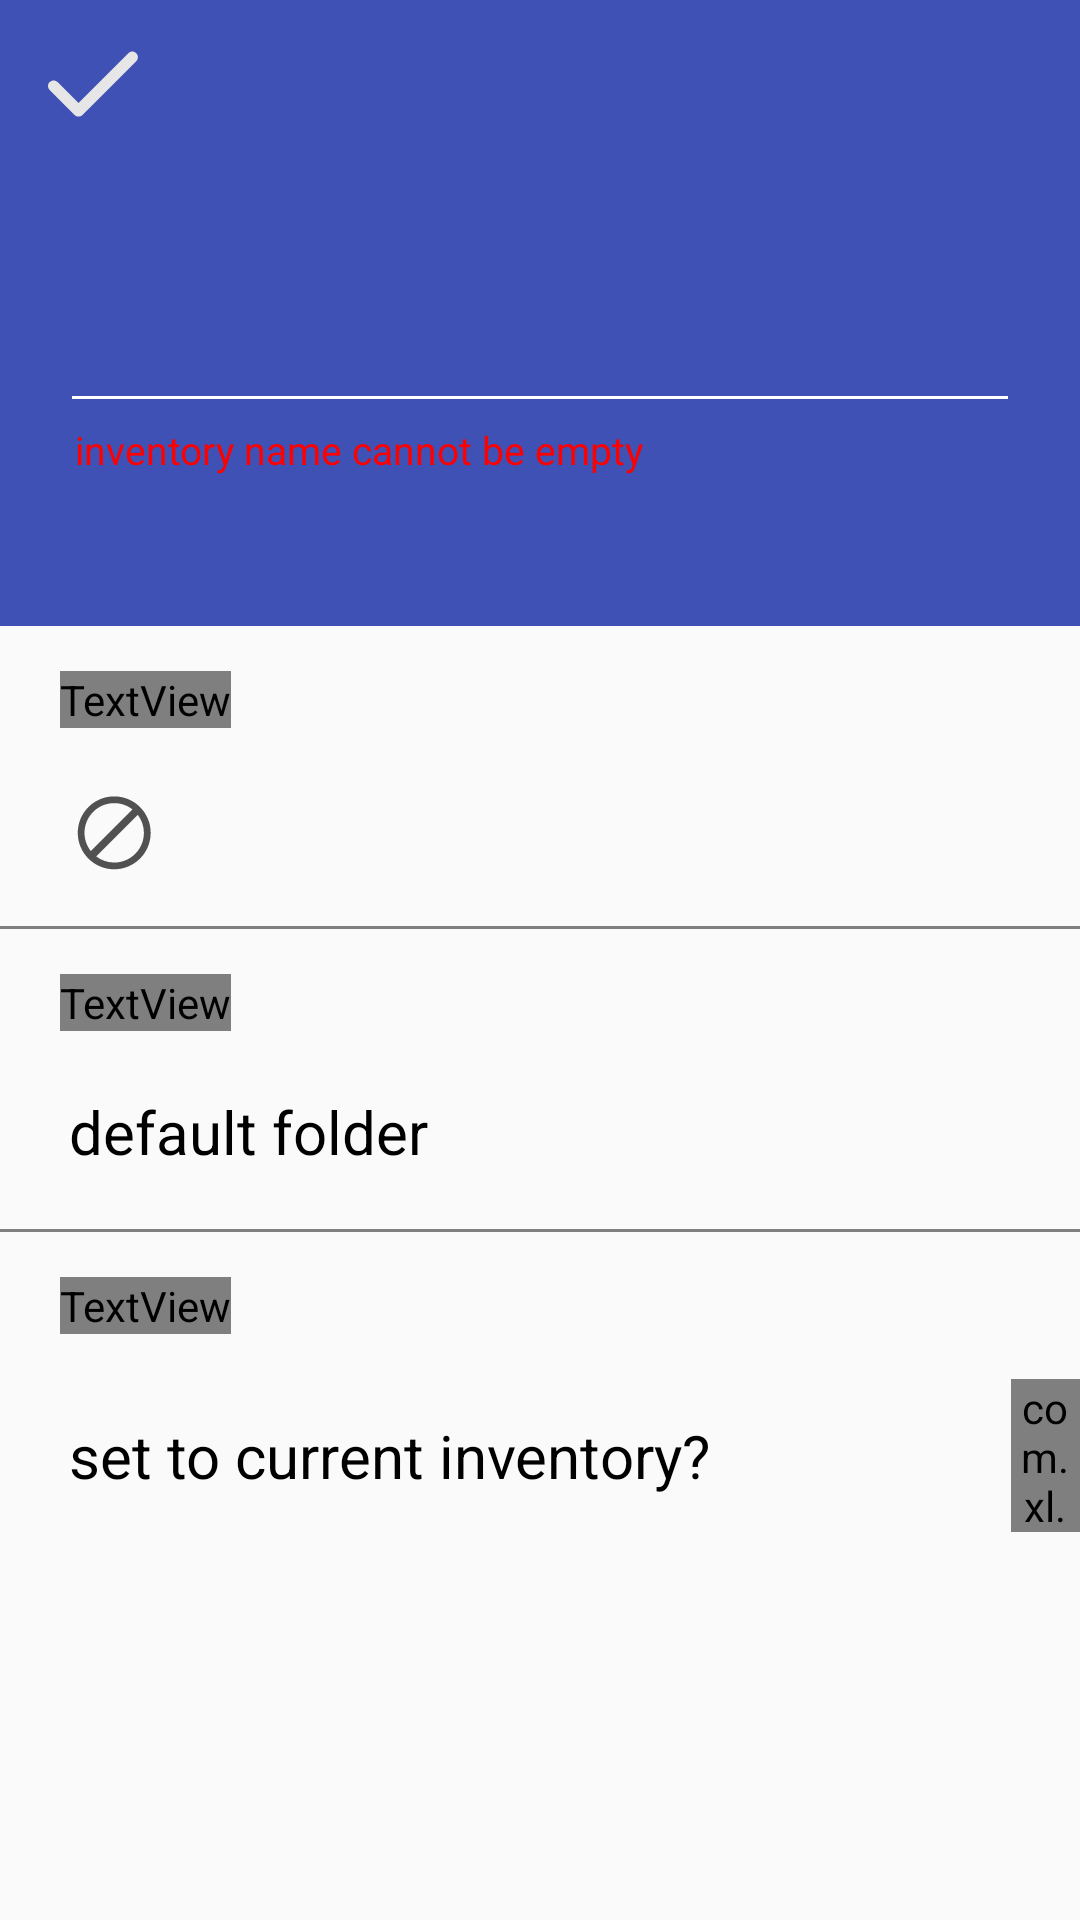

Where icons sit on this 1080x1920 app screen, as (x1, y1, x2, y2):
check: (48, 51, 138, 117)
